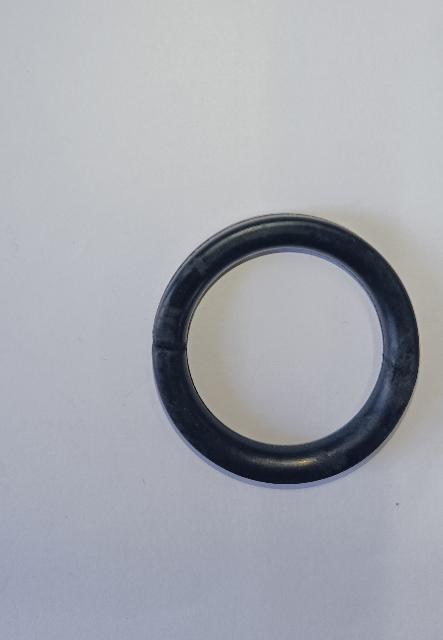scratch: (151, 339, 187, 358)
